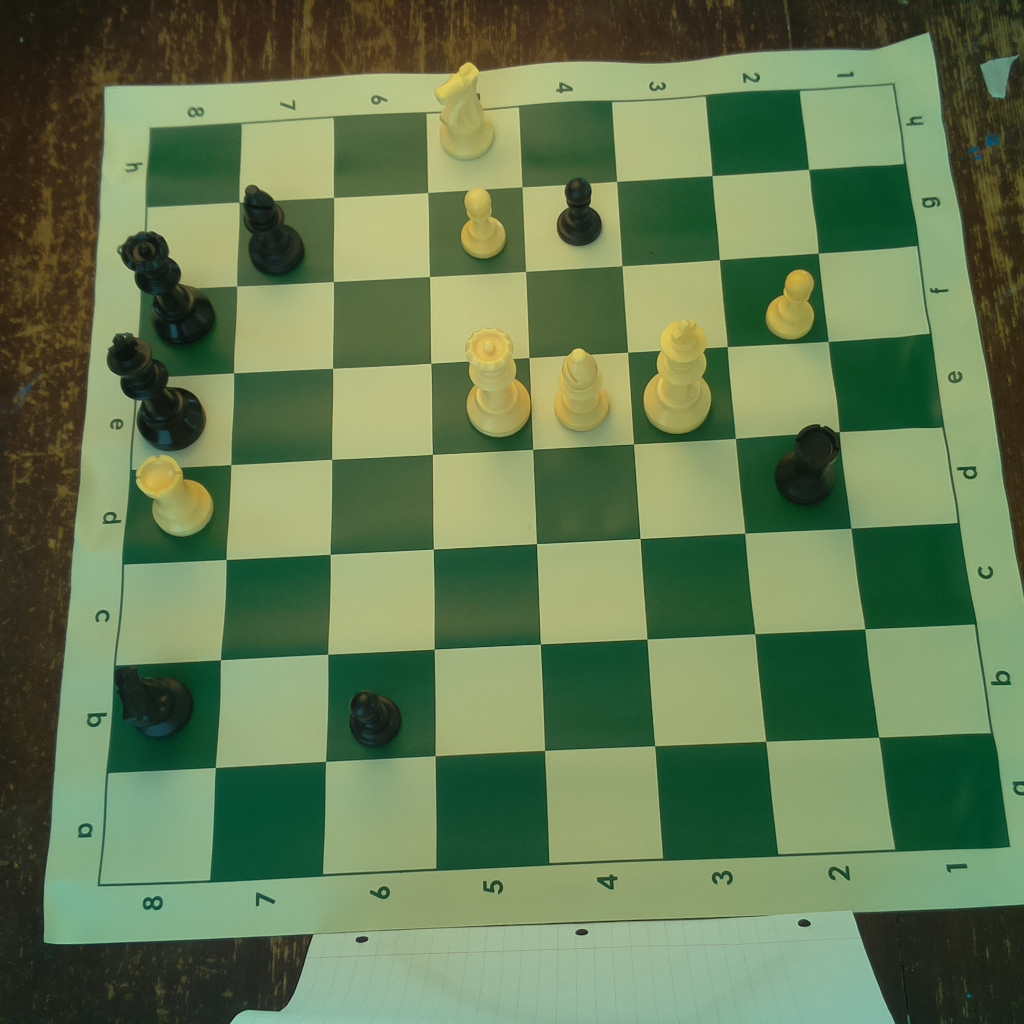black_bishop: (240, 182, 308, 278)
black_king: (102, 332, 207, 449)
black_knight: (107, 660, 197, 747)
black_pawn: (551, 173, 611, 248), (342, 686, 410, 748)
black_queen: (120, 227, 220, 348)
black_rook: (766, 412, 846, 509)
file_a: (99, 732, 1011, 882)
file_b: (107, 625, 996, 774)
file_c: (115, 525, 976, 664)
file_d: (121, 426, 958, 565)
file_e: (131, 335, 946, 470)
file_f: (137, 244, 931, 380)
file_g: (140, 164, 916, 291)
file_h: (149, 83, 902, 208)
outline: (98, 83, 1010, 886)
rank_1: (802, 82, 1010, 854)
rank_2: (707, 88, 896, 854)
rank_3: (612, 96, 780, 860)
rank_4: (520, 100, 664, 861)
rank_5: (425, 106, 551, 874)
rank_6: (320, 115, 438, 874)
rank_7: (207, 118, 332, 883)
rank_8: (97, 121, 242, 888)
white_bishop: (550, 344, 614, 435)
white_king: (644, 314, 714, 432)
white_knight: (431, 52, 496, 162)
white_pawn: (760, 262, 818, 341), (450, 187, 507, 262)
white_queen: (459, 323, 536, 438)
white_rook: (129, 453, 215, 540)
